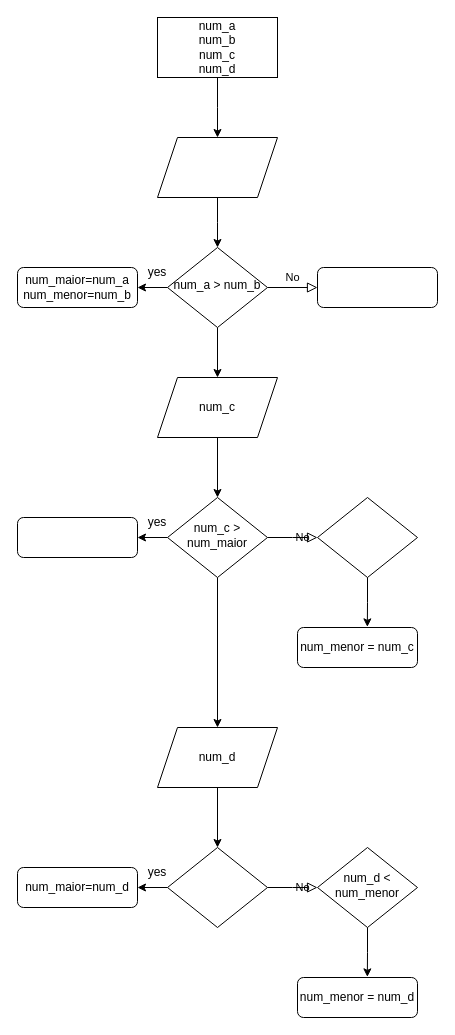
Some shapes in this 455 by 1035 pixel diagram are drawn without their labels. Each missing label, with the centre of its shape:
"num_a num_b" goes at [217,167].
"num_c < num_menor" goes at [367,537].
"num_d > num_maior" goes at [217,887].
"num_maior = num_b num_menor = num_a" goes at [377,287].
"num_maior=num_c" goes at [77,537].
